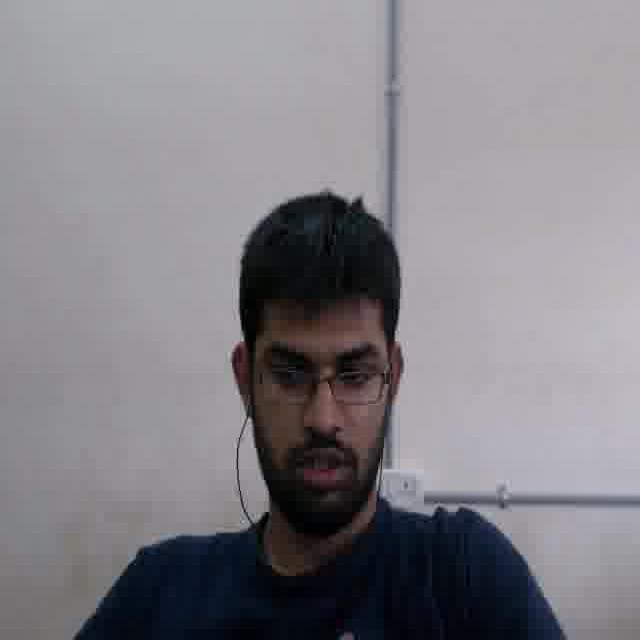Engaged: (247, 292, 385, 521)
